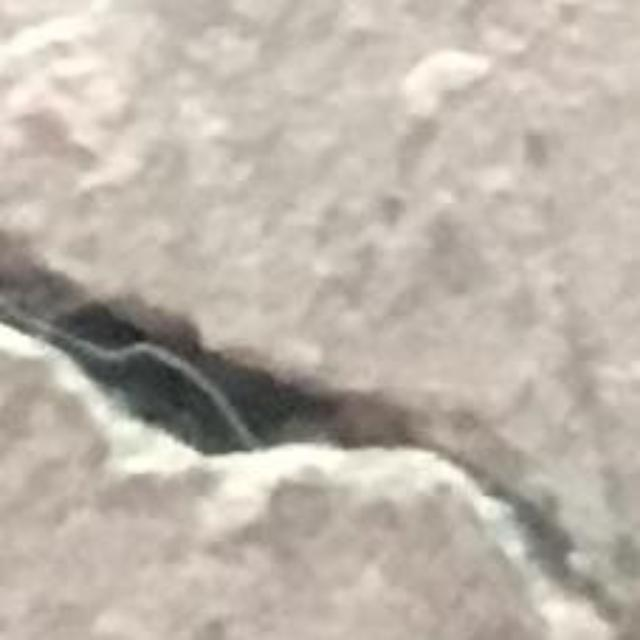crack: (0, 235, 628, 639)
